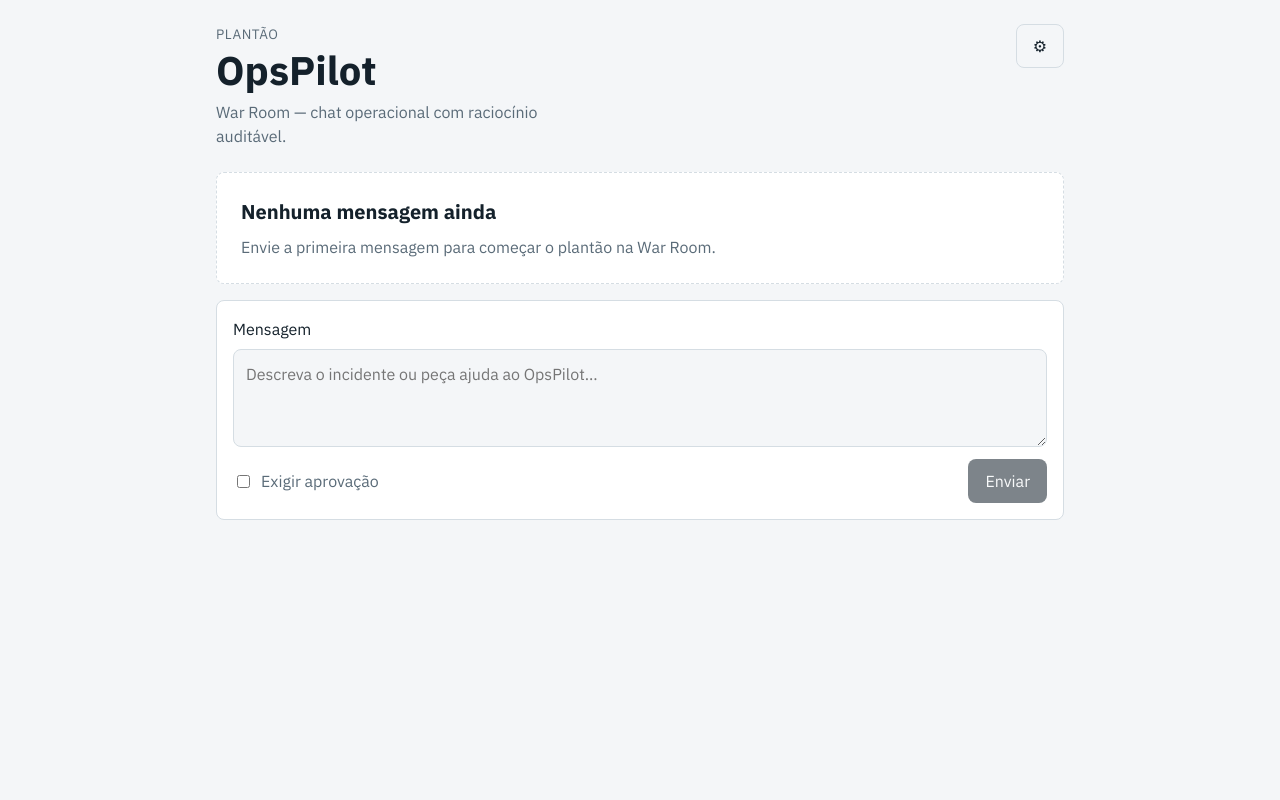
it: App › opens reasoning drawer for assistant trace
Type "status" into the text box labelled "Mensagem" at (640, 398), box [233,349,1047,447]
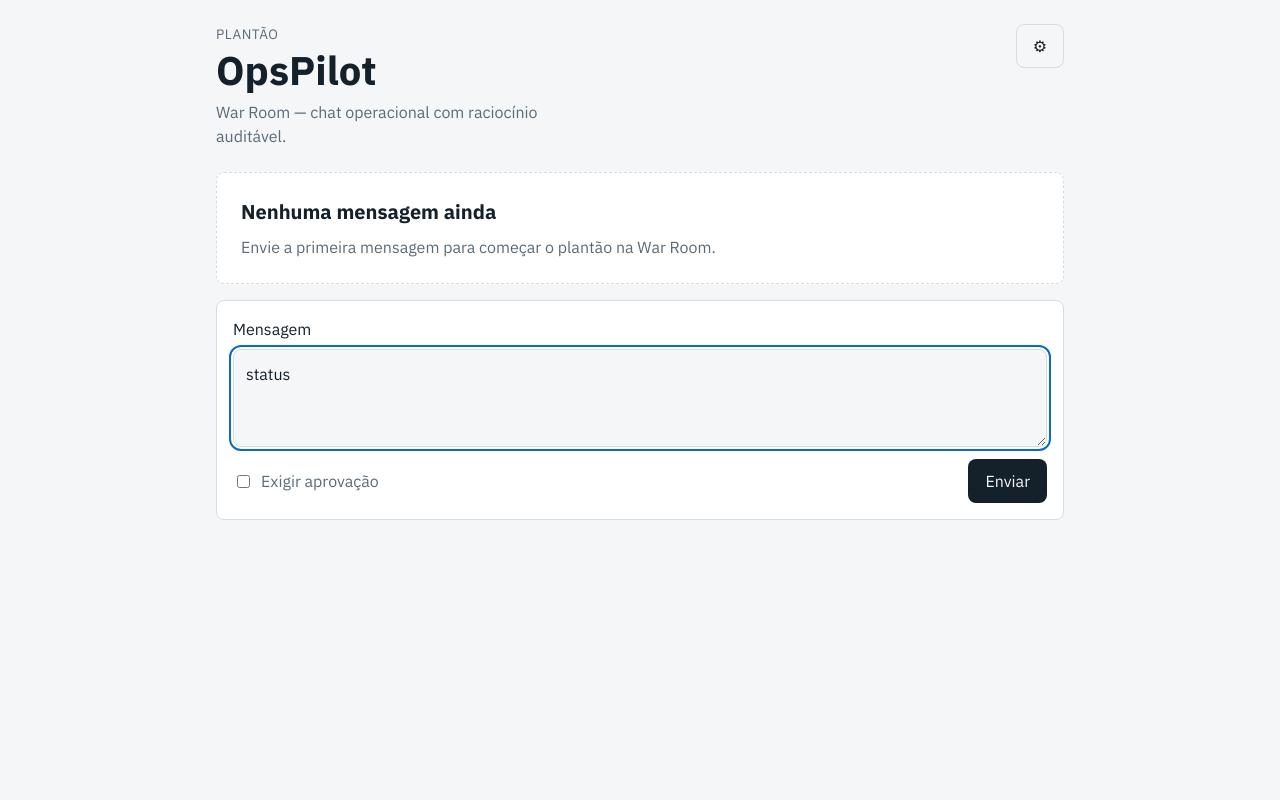
Click the button "Enviar" at (1008, 481), box [968,459,1047,503]
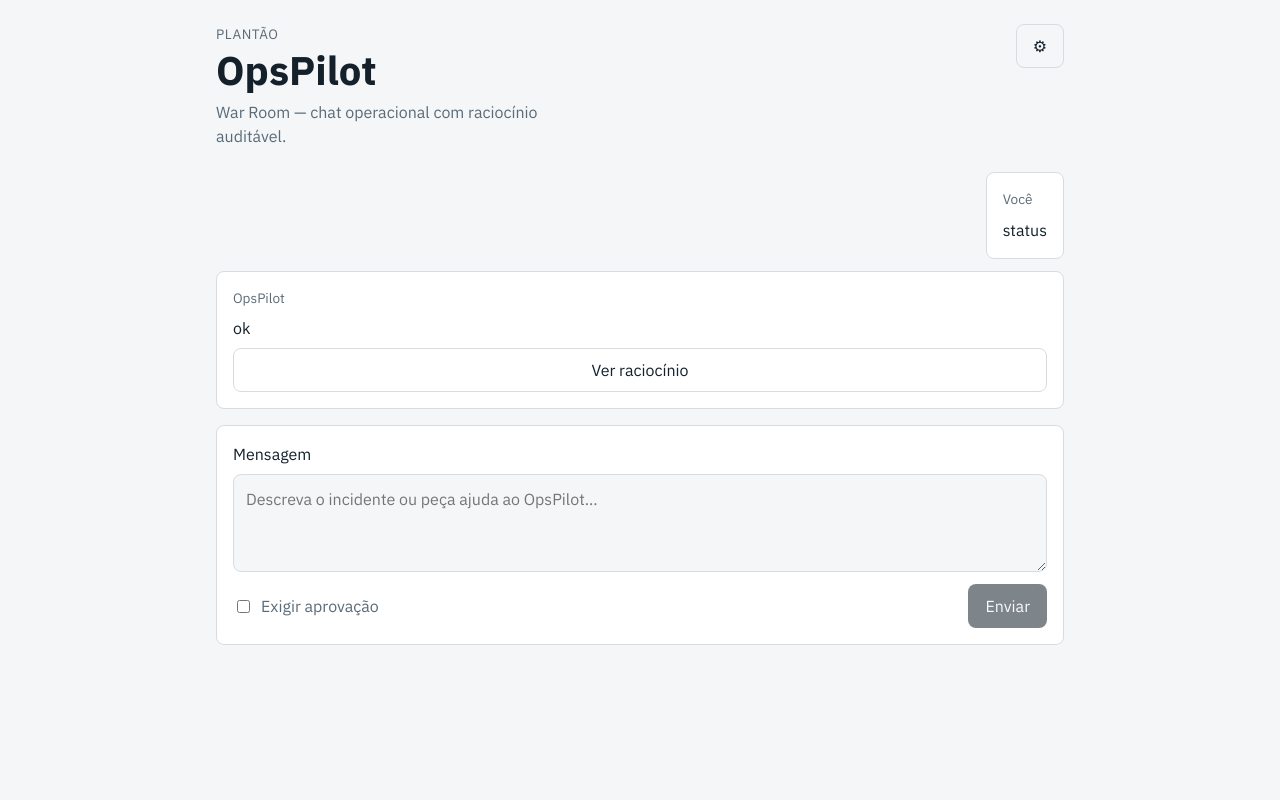
expect the text "ok" is shown: met, box [233,318,250,338]
Click the button "Ver raciocínio" at (640, 370), box [233,348,1047,392]
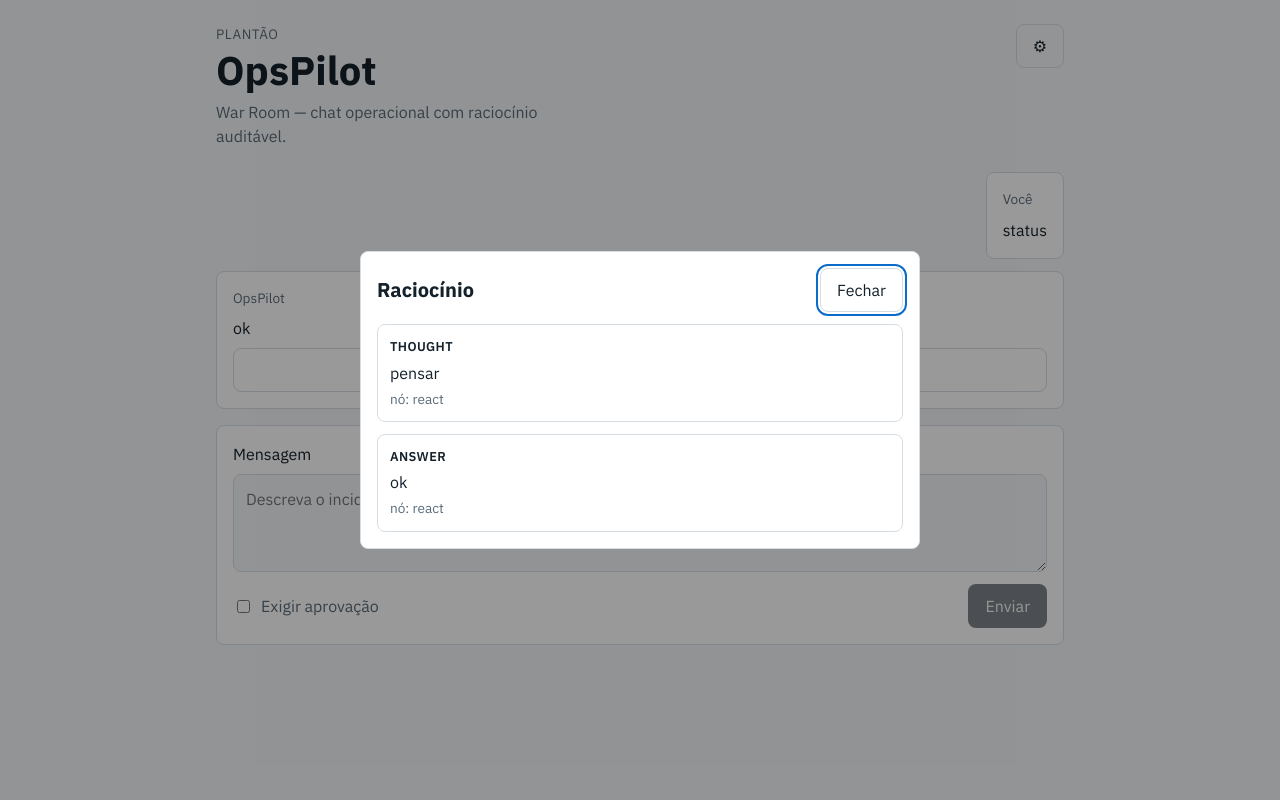
expect the dialog "Raciocínio" is shown: met, box [360,251,920,549]
expect the text "thought" is shown: met, box [390,338,453,355]
